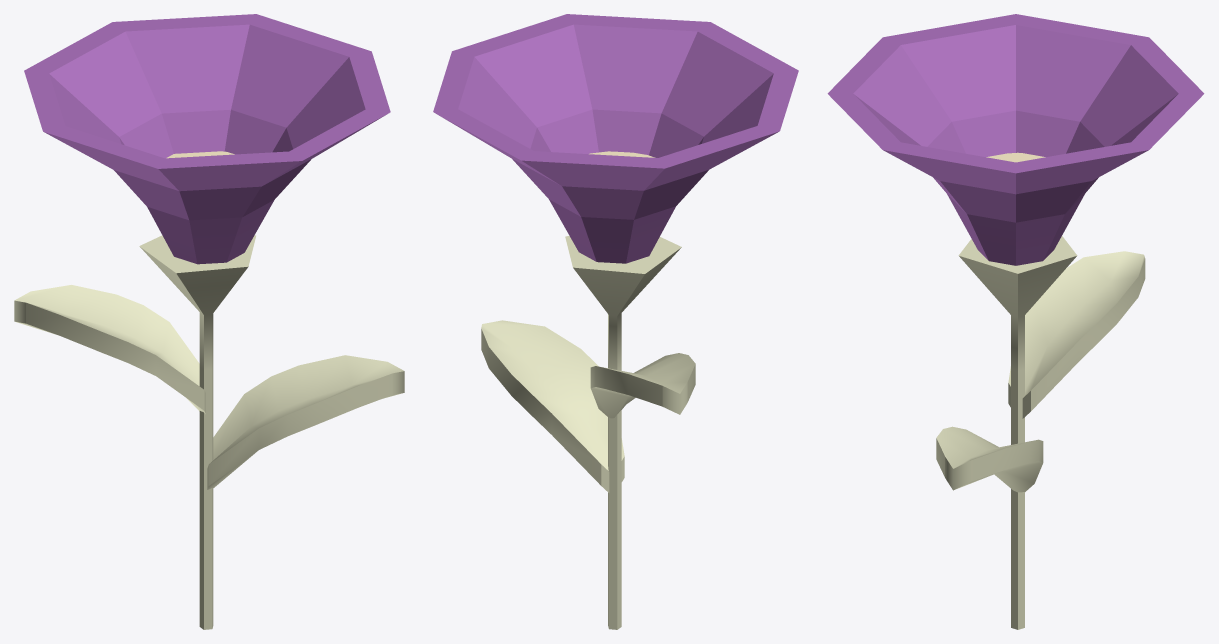
File: Flor03.gltf
3 renders of one model, left to right at view 1: azimuth 30°, elevation 25°; view 2: azimuth 150°, elevation 25°; view 3: azimuth 270°, elevation 25°, orthographic.
Visible parts, largest first — view 1: pPipe16, pCube8, pCube9, pPipe15; view 2: pPipe16, pCube8, pPipe15, pCube9; view 3: pPipe16, pCube9, pPipe15, pCube8.
Boxes of the visible parts, left/top/right/bottom form: pPipe16: left=24, top=14, right=390, bottom=264; pCube8: left=207, top=355, right=404, bottom=489; pCube9: left=14, top=285, right=205, bottom=413; pPipe15: left=139, top=235, right=255, bottom=629; pPipe16: left=433, top=14, right=798, bottom=263; pCube8: left=481, top=320, right=624, bottom=492; pPipe15: left=565, top=235, right=681, bottom=629; pCube9: left=590, top=353, right=695, bottom=418; pPipe16: left=827, top=14, right=1204, bottom=265; pCube9: left=1008, top=251, right=1145, bottom=418; pPipe15: left=958, top=236, right=1077, bottom=629; pCube8: left=936, top=426, right=1043, bottom=492.
Size of the model in its own units: 0.5018 by 0.7792 by 0.4997.
